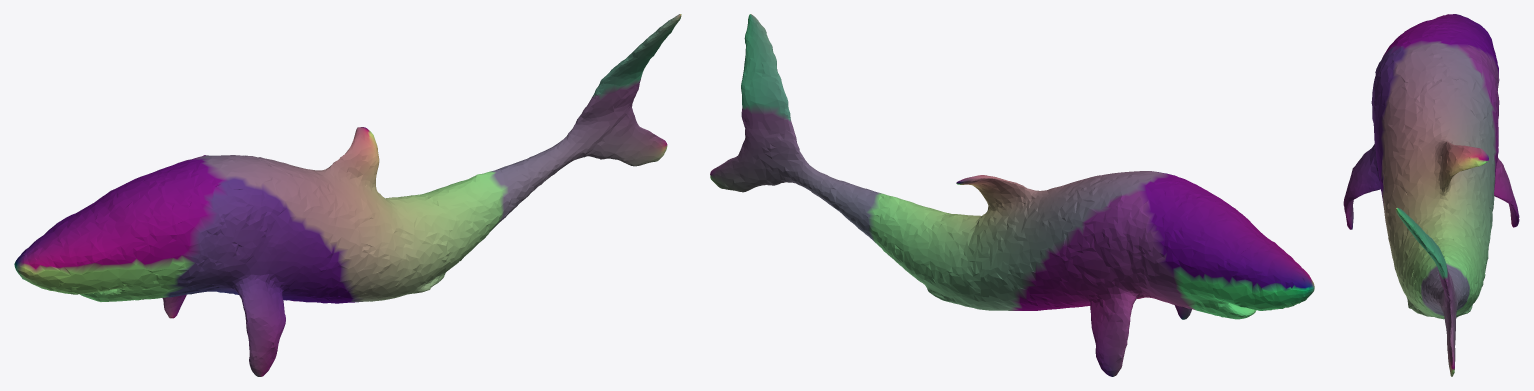
Rendered from shark-12.off.obj.
3 renders of one model, left to right at view 1: azimuth 30°, elevation 25°; view 2: azimuth 150°, elevation 25°; view 3: azimuth 270°, elevation 25°, orthographic. The views are drawn at different scales.
Size of the model in its own units: 1.5 by 0.5244 by 0.3557.
